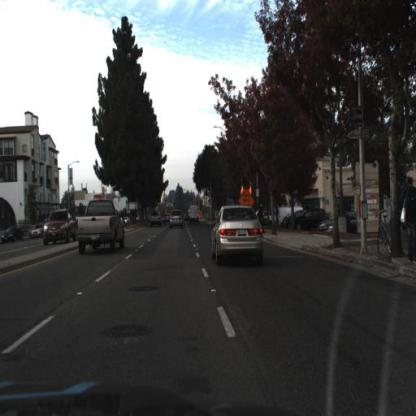car: (208, 201, 272, 271), (71, 192, 128, 258), (40, 204, 77, 251), (42, 211, 79, 248), (289, 205, 329, 234), (167, 205, 188, 233), (186, 200, 204, 231), (149, 208, 165, 233), (189, 205, 201, 225)
pedestrian: (399, 178, 416, 269), (257, 204, 267, 240), (260, 205, 268, 237), (257, 209, 263, 233)
truck: (274, 204, 306, 225)
